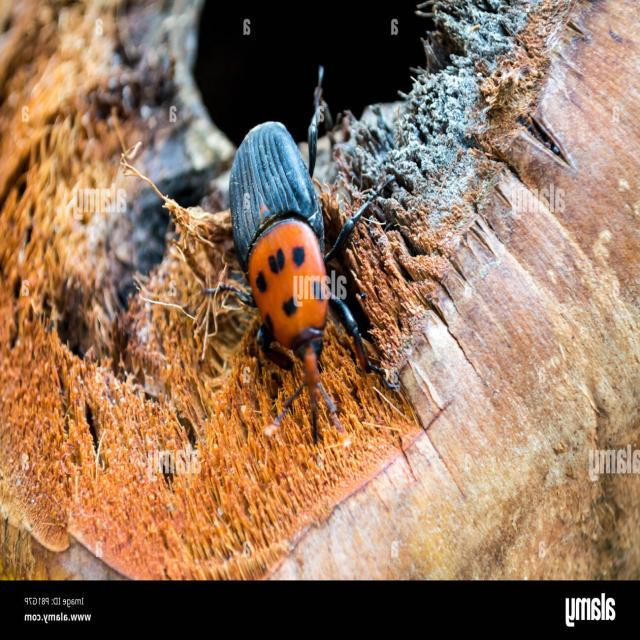Red-palm-weevil: (198, 106, 401, 465)
